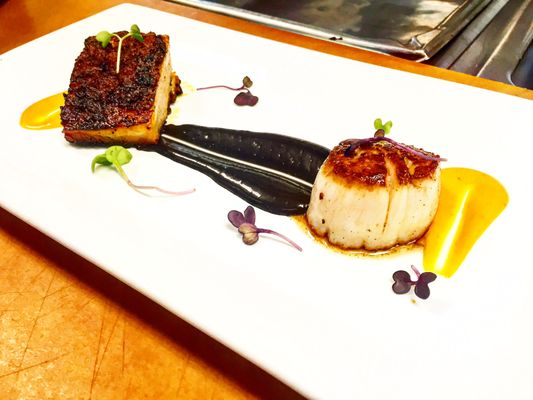sandwich: (158, 123, 328, 218)
